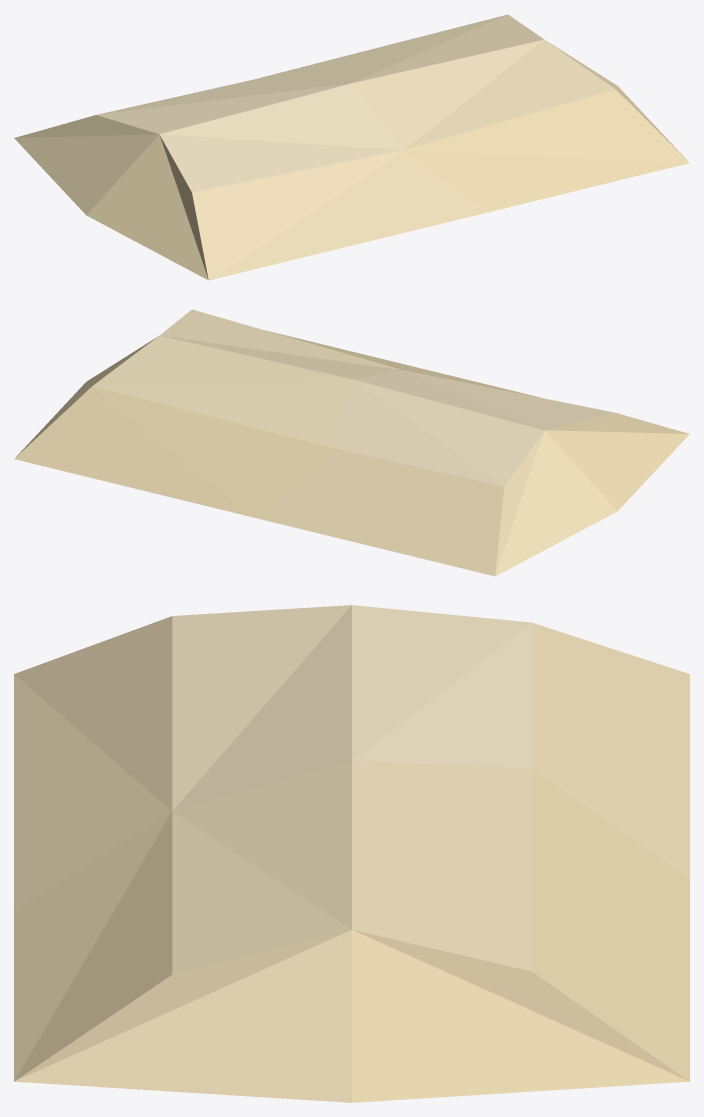
File: dbmp.glb
The picture shows the model from 3 angles, top to bottom: view 1: azimuth 30°, elevation 25°; view 2: azimuth 150°, elevation 25°; view 3: azimuth 270°, elevation 25°; orthographic projection. The views are drawn at different scales.
Parts seen in each view (by area): view 1: dbmp; view 2: dbmp; view 3: dbmp.
Part boxes in pixels (bbox=[...]): dbmp: bbox=[14, 14, 689, 280]; dbmp: bbox=[14, 309, 689, 576]; dbmp: bbox=[14, 605, 689, 1102].
Bounding box in the file's own units: 13.8 × 1.67 × 8.76.
